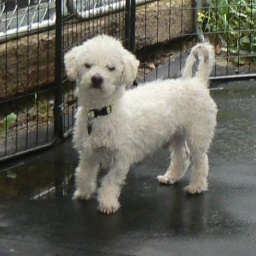dog: (57, 26, 219, 215)
